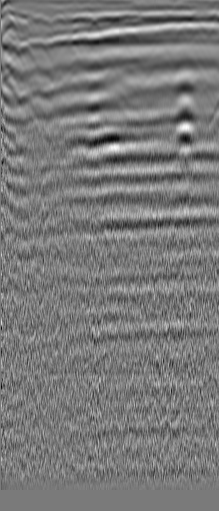오수: (23, 37, 43, 57)
우수: (173, 17, 193, 43)
